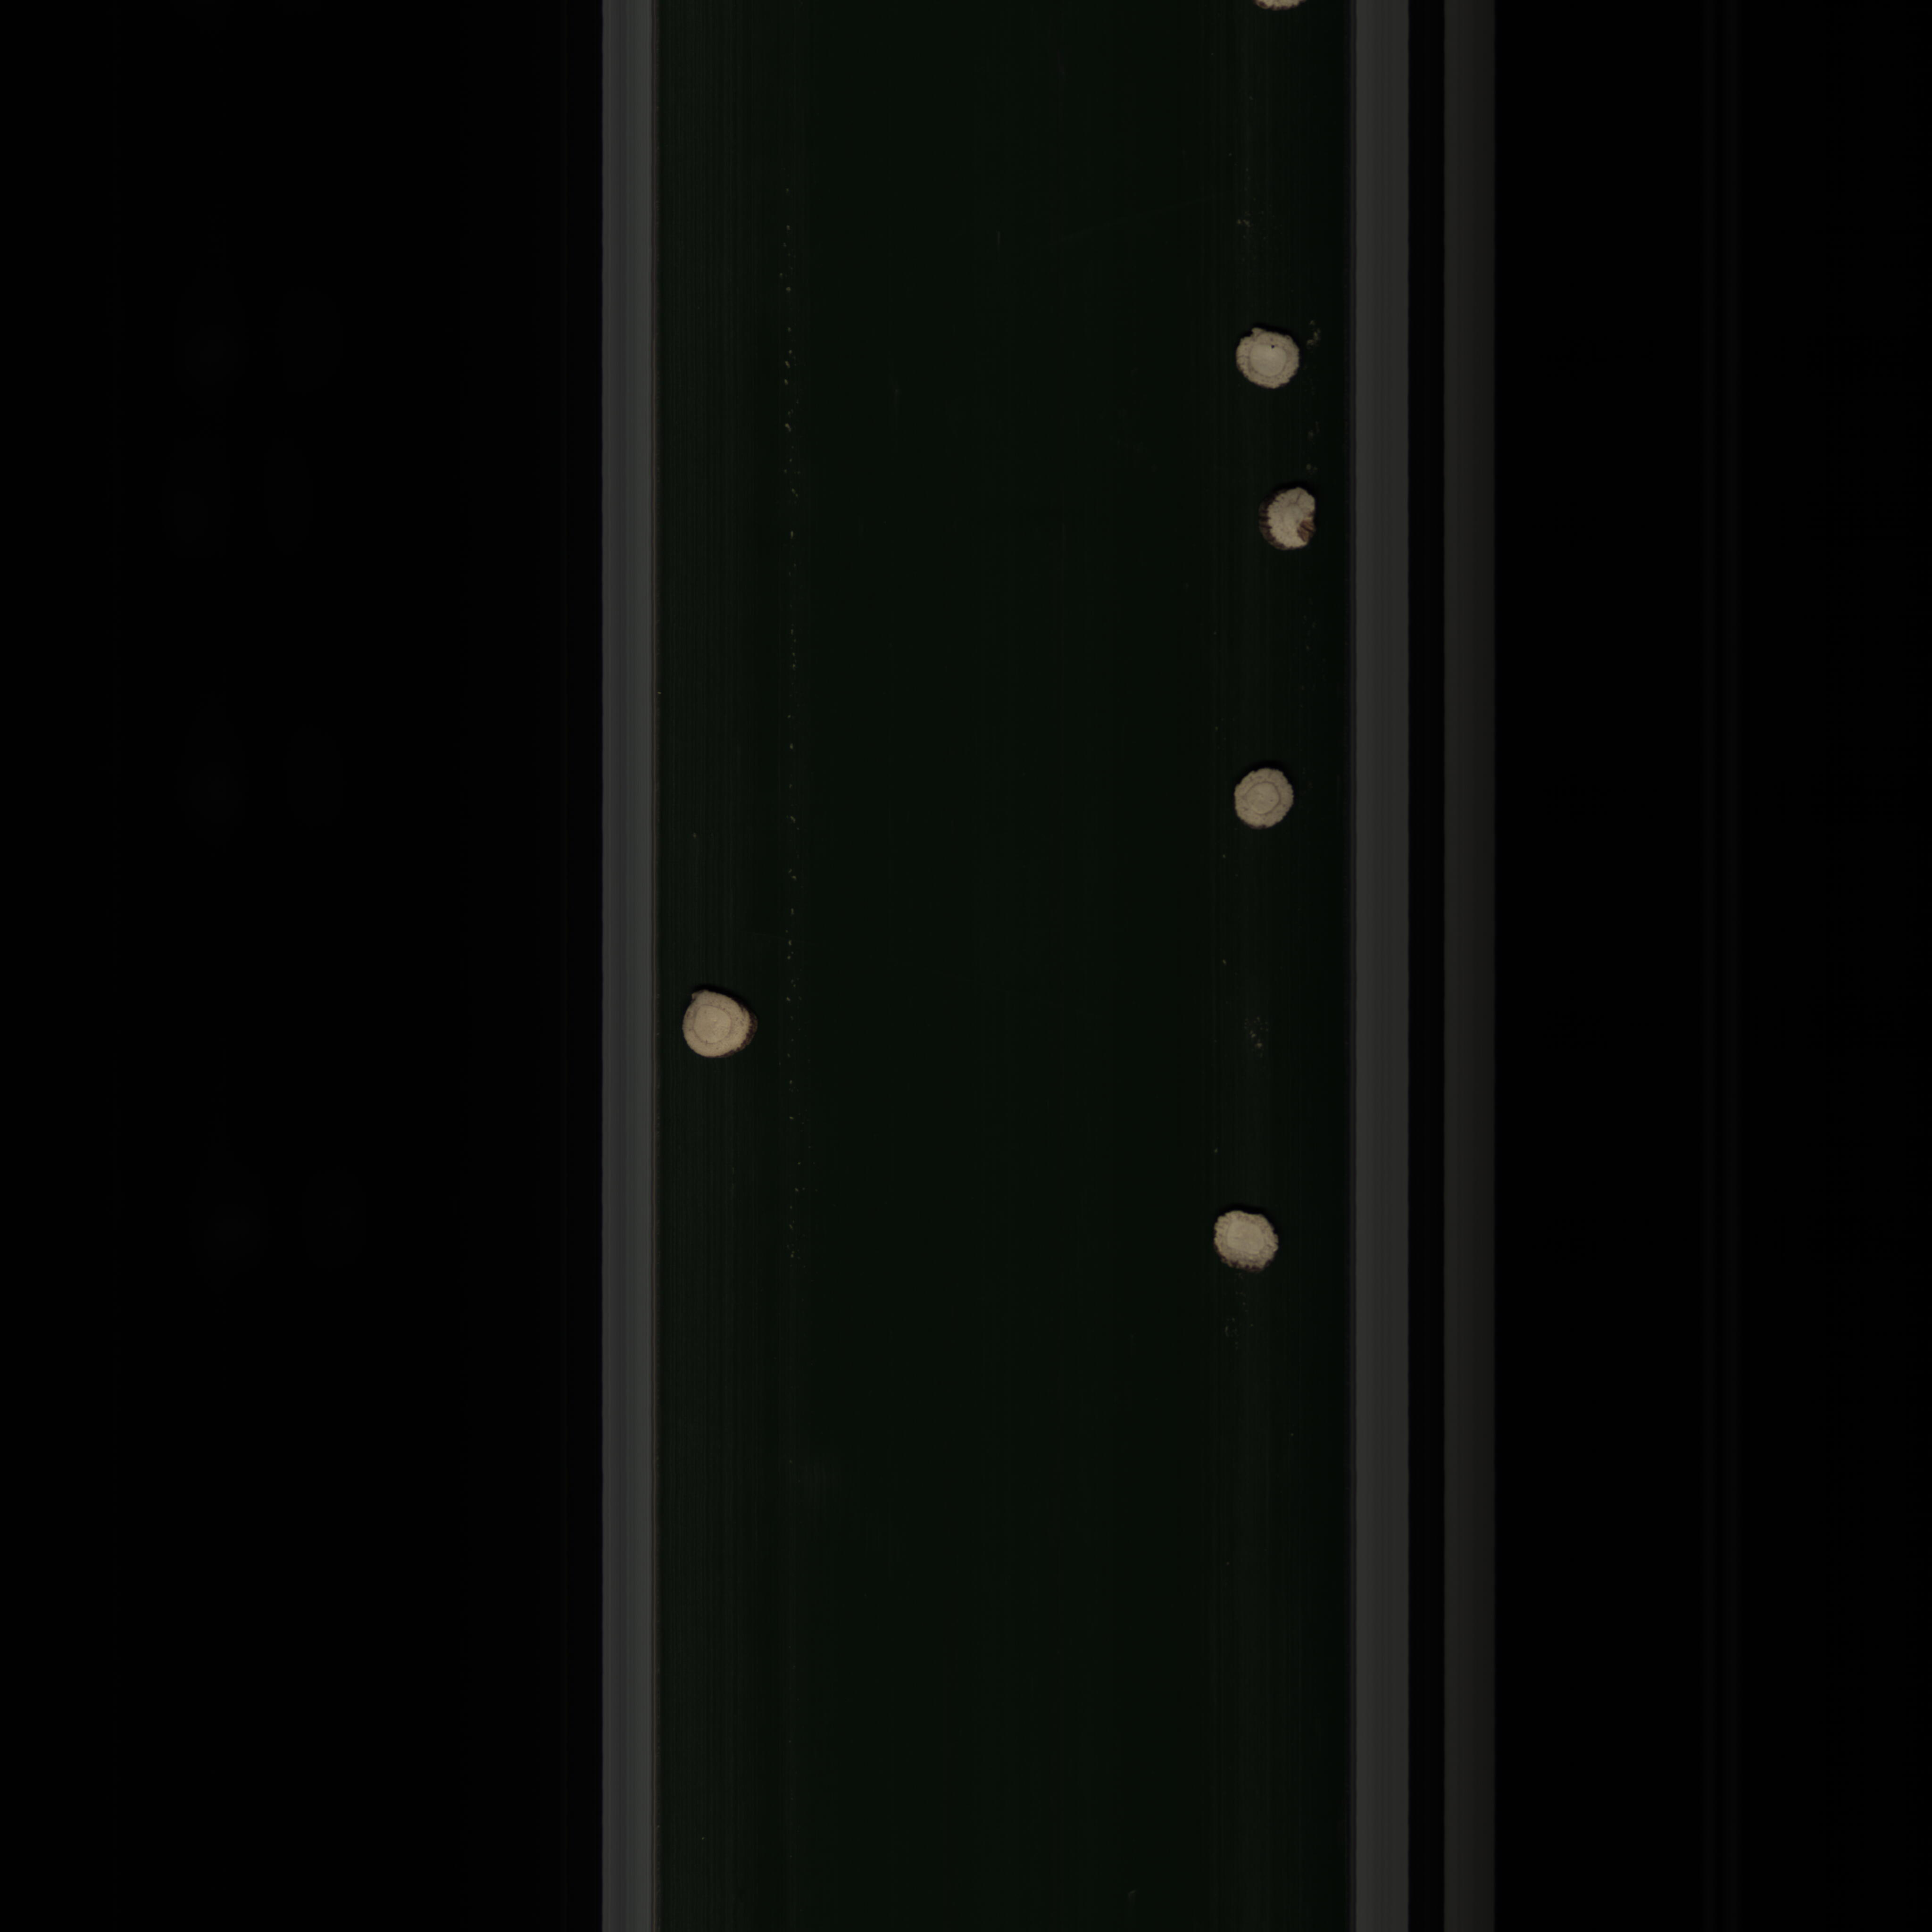moldy: (1256, 481, 1330, 557)
